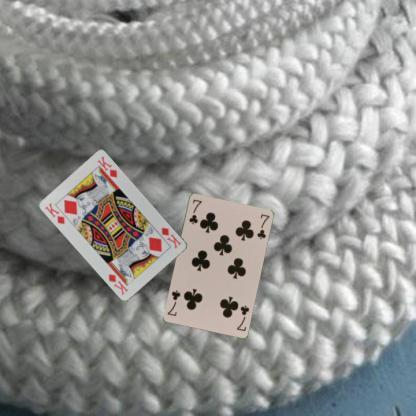7c: (186, 196, 202, 226), (234, 302, 250, 332)
Kd: (42, 200, 67, 225), (158, 224, 182, 249)
